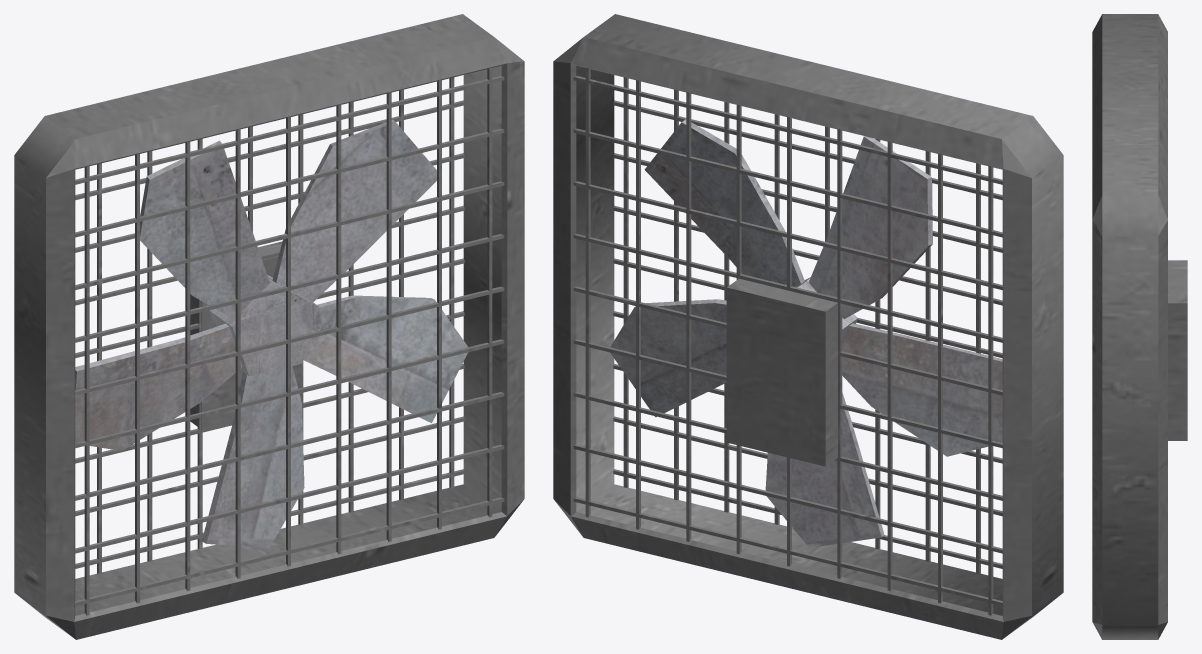
File: prop_box_fan.glb
The picture shows the model from 3 angles, left to right: view 1: azimuth 30°, elevation 25°; view 2: azimuth 150°, elevation 25°; view 3: azimuth 270°, elevation 25°; orthographic projection. The views are drawn at different scales.
Parts seen in each view (by area): view 1: Object_10; view 2: Object_10; view 3: Object_10.
Boxes of the visible parts, x1,y1,x2,y2 form: Object_10: [14, 14, 524, 639]; Object_10: [553, 14, 1063, 639]; Object_10: [1092, 14, 1187, 639].
Bounding box in the file's own units: 0.5705 × 0.5705 × 0.1107.
Materials: 2 (2 with a texture image).
